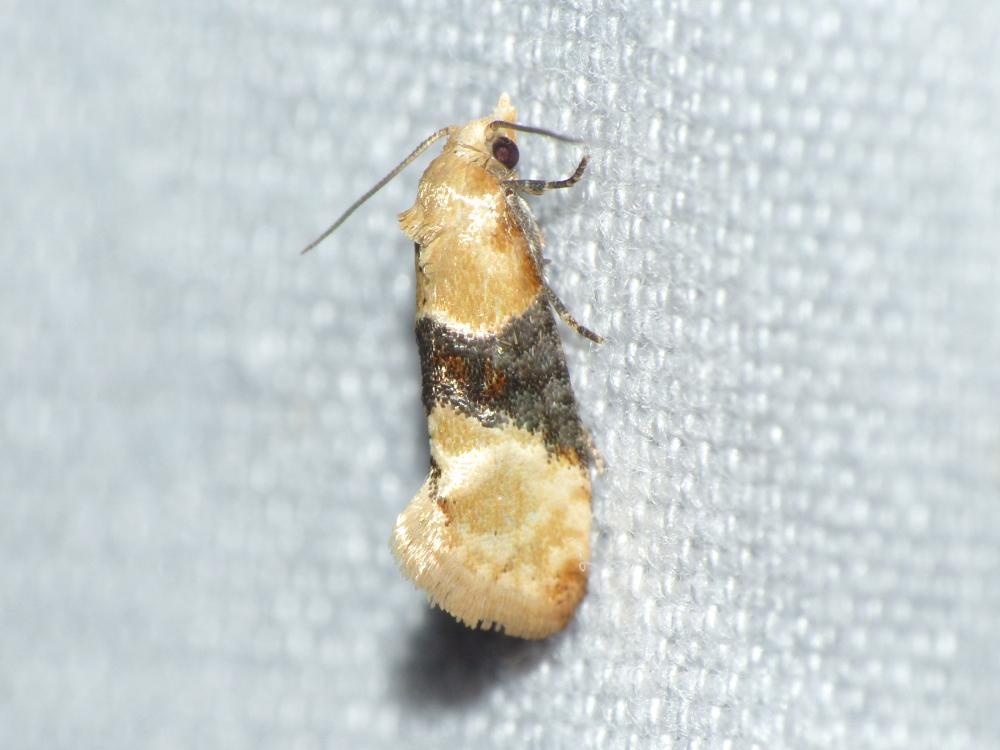Eupoecilia Ambiguella: (298, 91, 610, 642)
